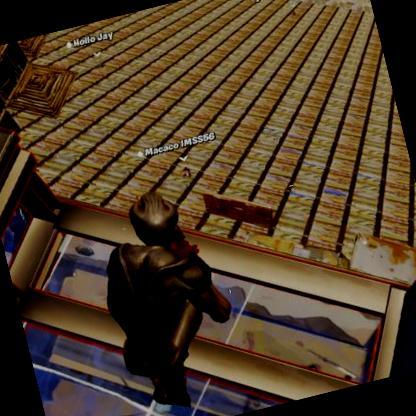person: (182, 164, 196, 178), (292, 9, 299, 16)
